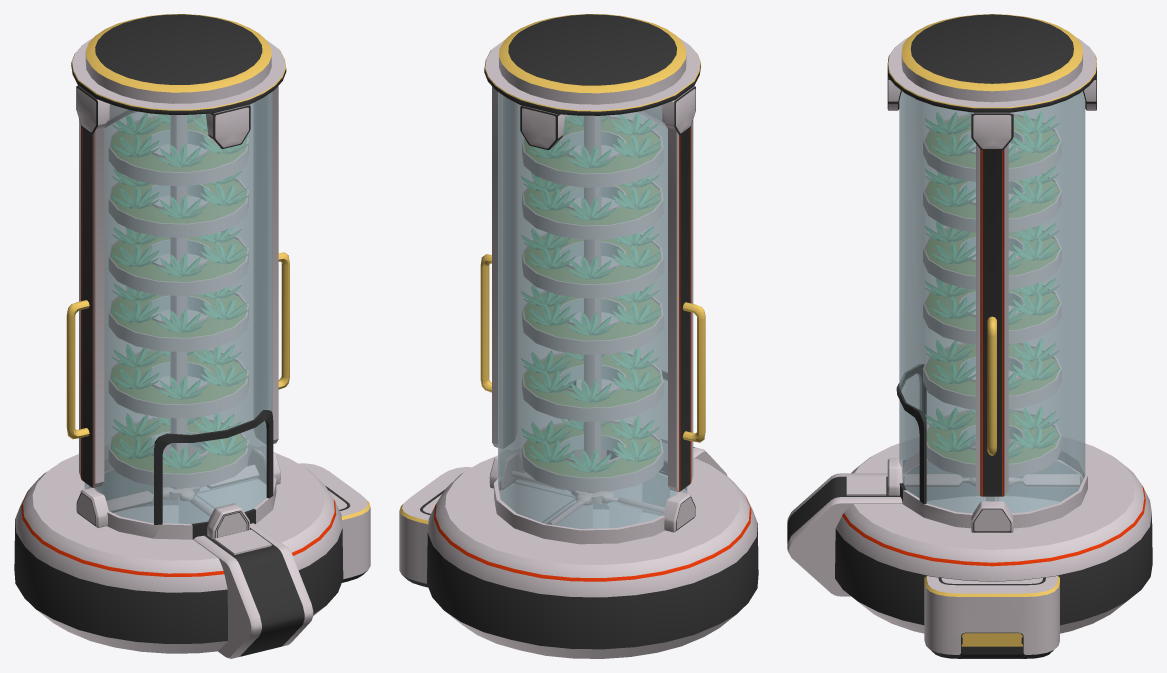
Rendered from OxygenFarm2.fbx.
3 renders of one model, left to right at view 1: azimuth 30°, elevation 25°; view 2: azimuth 150°, elevation 25°; view 3: azimuth 270°, elevation 25°, orthographic. The views are drawn at different scales.
Visible parts, largest first — view 1: Oxygen_Farm_2; view 2: Oxygen_Farm_2; view 3: Oxygen_Farm_2.
Boxes of the visible parts, left/top/right/bottom form: Oxygen_Farm_2: left=14, top=14, right=370, bottom=658; Oxygen_Farm_2: left=399, top=14, right=758, bottom=658; Oxygen_Farm_2: left=787, top=14, right=1152, bottom=658.
Size of the model in its own units: 7.88 by 13.17 by 8.17.
